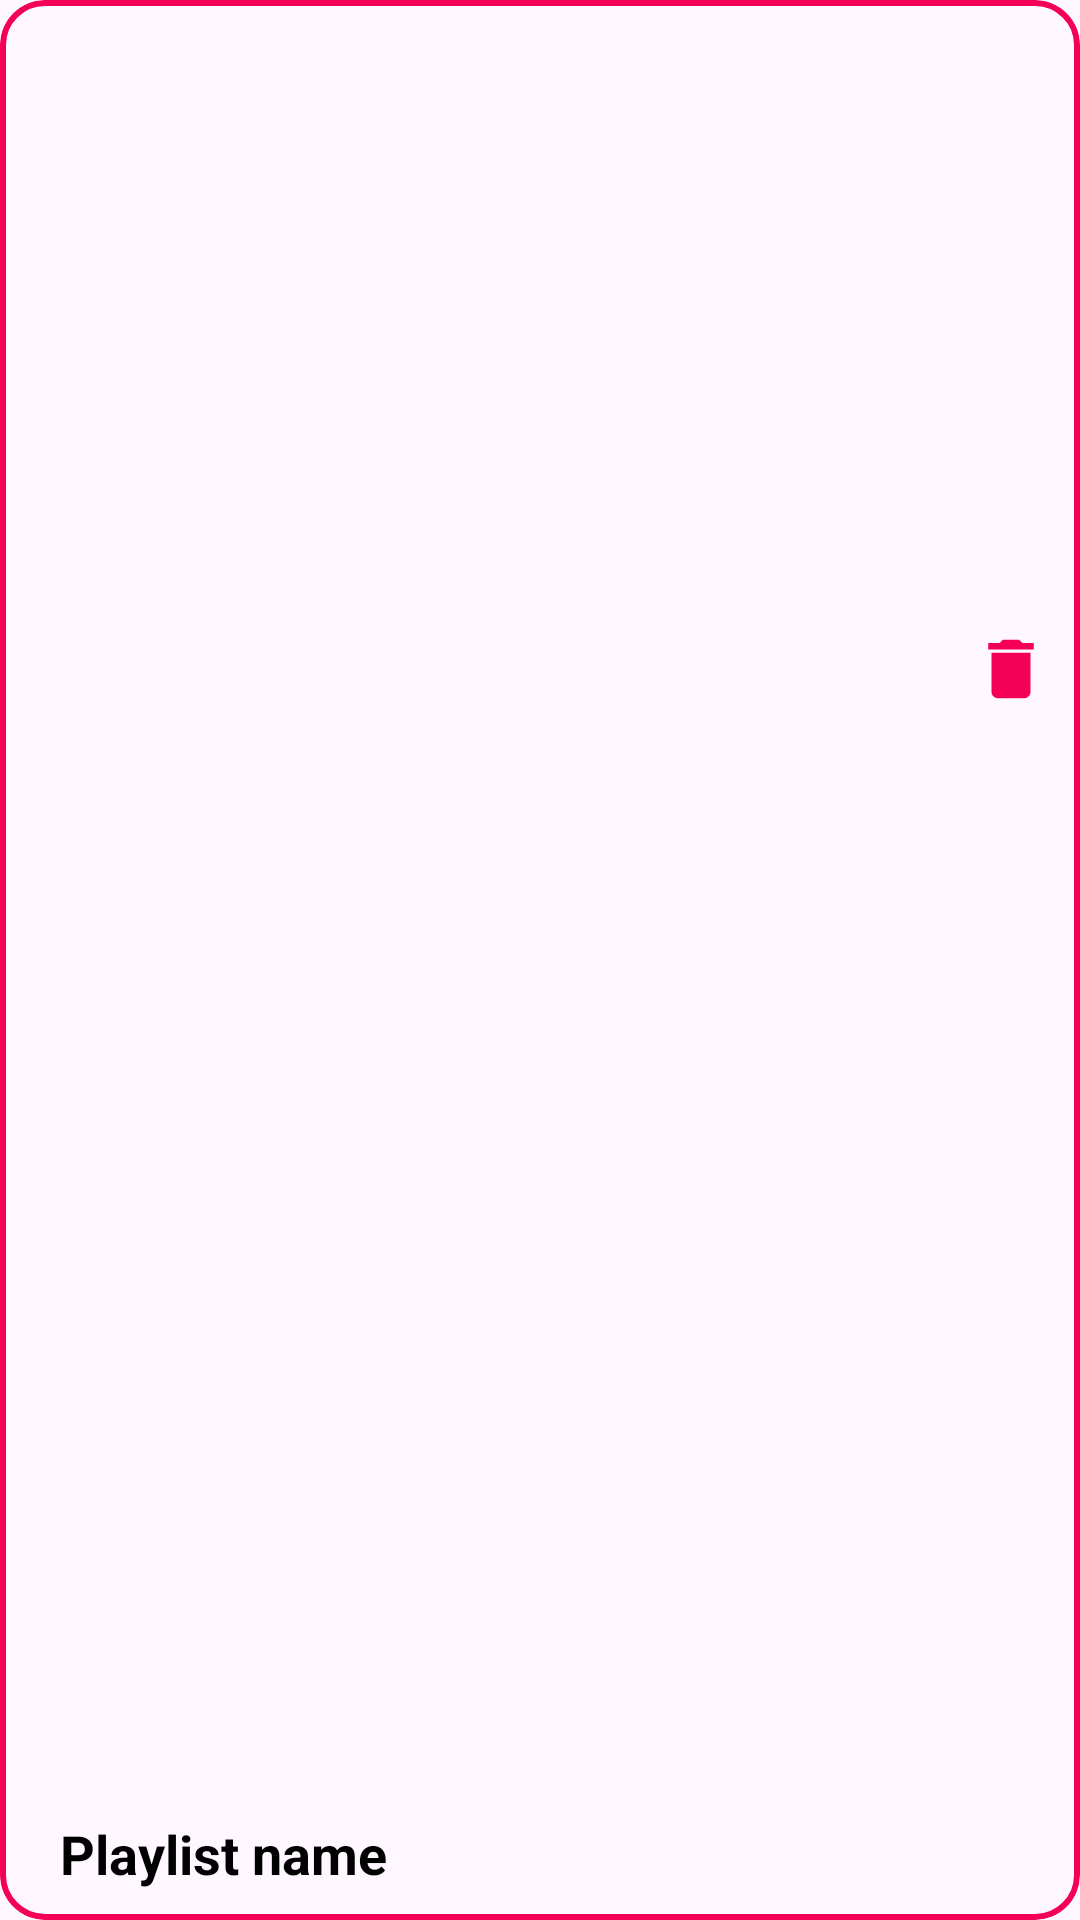

Icons on this 1080 × 1920 Android screen, each with its box as (x1, y1, x2, y2):
bin: (988, 639, 1034, 699)
